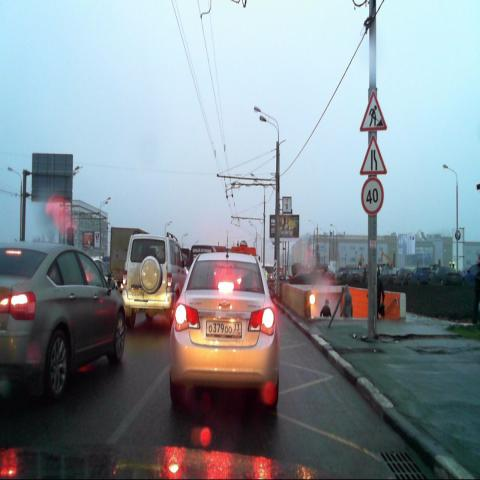3_24: (362, 176, 384, 211)
